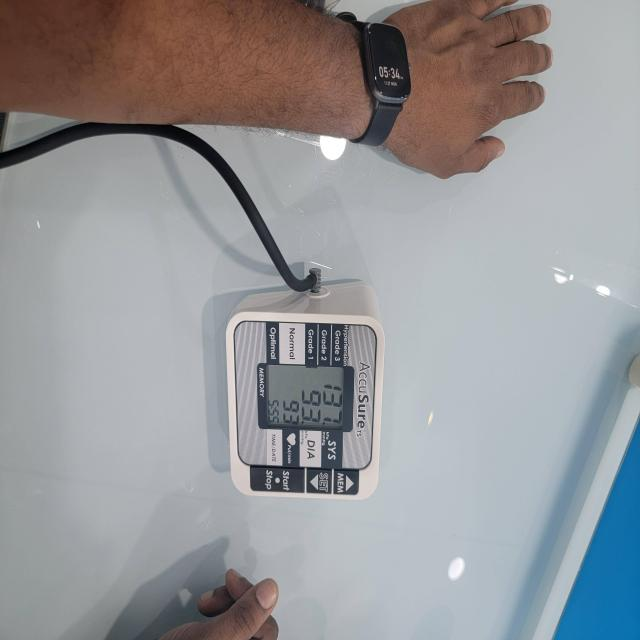bp: (208, 282, 385, 501)
